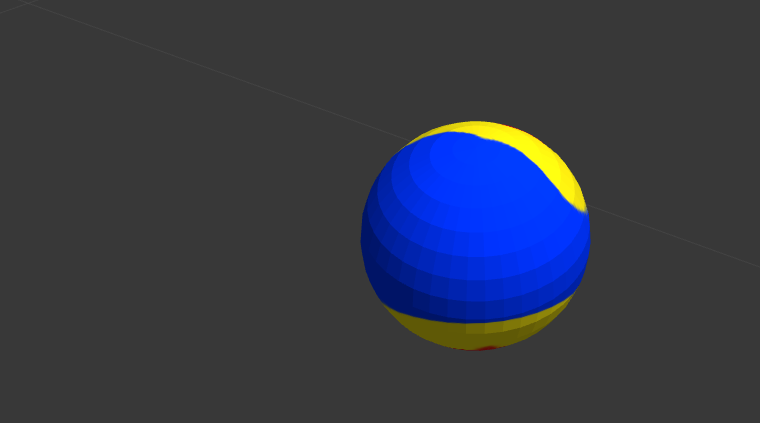toy story ball: (361, 118, 595, 350)
